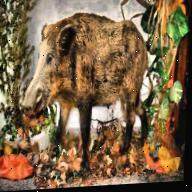boar: (11, 0, 156, 169)
